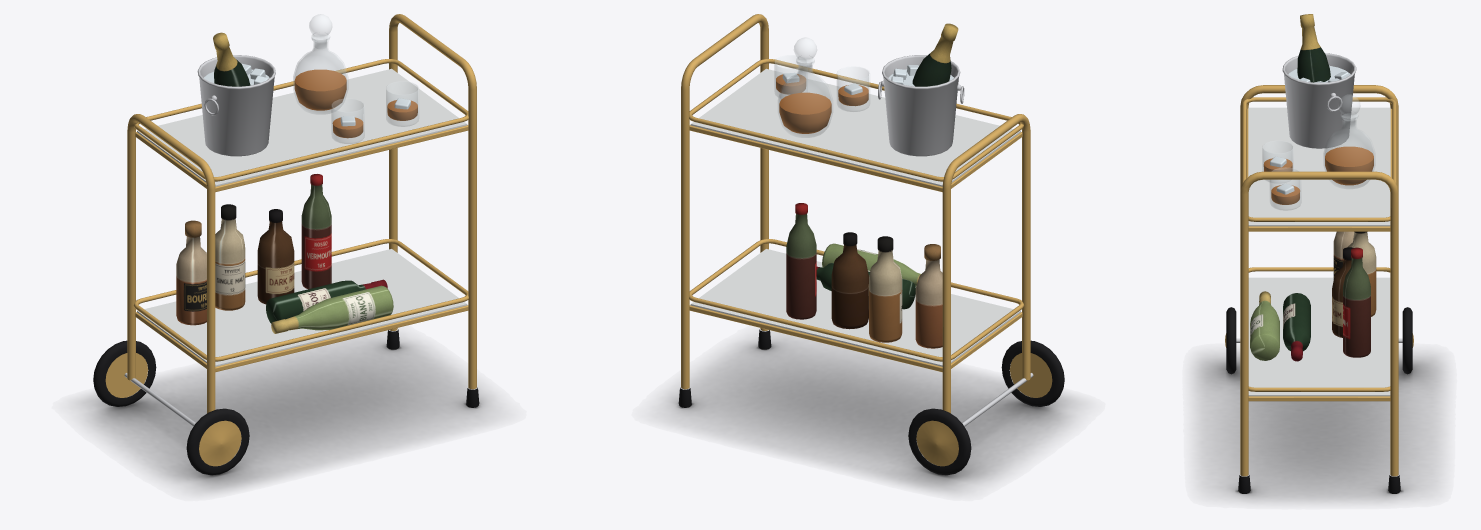
The model's file is bar_cart.glb.
3 renders of one model, left to right at view 1: azimuth 30°, elevation 25°; view 2: azimuth 150°, elevation 25°; view 3: azimuth 270°, elevation 25°, orthographic. The views are drawn at different scales.
Parts seen in each view (by area): view 1: bar_cart_LOD0, bar_cart_Shadow; view 2: bar_cart_LOD0, bar_cart_Shadow; view 3: bar_cart_LOD0, bar_cart_Shadow.
Part boxes in pixels (x1=…): bar_cart_LOD0: x1=93, y1=14, x2=479, y2=475; bar_cart_Shadow: x1=80, y1=336, x2=492, y2=491; bar_cart_LOD0: x1=678, y1=14, x2=1064, y2=475; bar_cart_Shadow: x1=666, y1=335, x2=1076, y2=491; bar_cart_LOD0: x1=1225, y1=14, x2=1413, y2=493; bar_cart_Shadow: x1=1195, y1=352, x2=1443, y2=500.
Size of what is drawn, in the model's own units: 1.15 by 1.11 by 0.784.
Materials: 4 (2 with a texture image).
